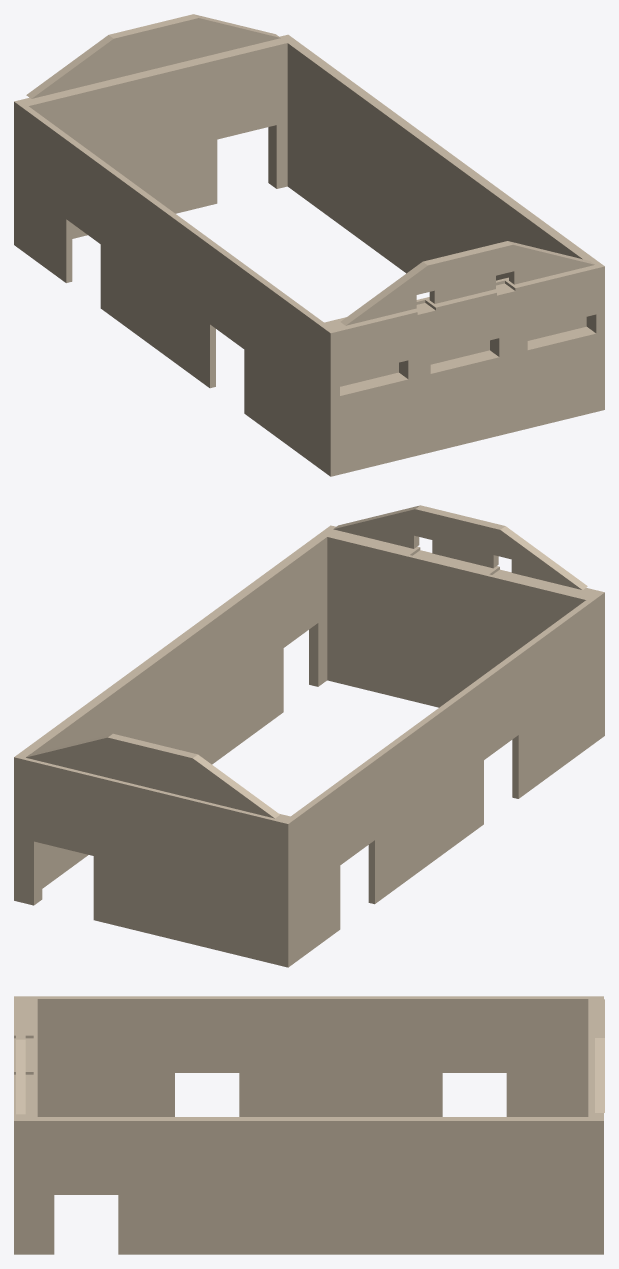
File: eringym.glb
3 renders of one model, top to bottom at view 1: azimuth 30°, elevation 25°; view 2: azimuth 150°, elevation 25°; view 3: azimuth 270°, elevation 25°, orthographic. The views are drawn at different scales.
Visible parts, largest first — view 1: Mesh_Mesh_head_geo.001_lambert2SG.001; view 2: Mesh_Mesh_head_geo.001_lambert2SG.001; view 3: Mesh_Mesh_head_geo.001_lambert2SG.001.
Boxes of the visible parts, box(x1,y1,x2,y2) form: Mesh_Mesh_head_geo.001_lambert2SG.001: box(14, 14, 604, 476); Mesh_Mesh_head_geo.001_lambert2SG.001: box(14, 505, 604, 967); Mesh_Mesh_head_geo.001_lambert2SG.001: box(14, 996, 604, 1254).
Bounding box in the file's own units: 300 × 195 × 601.
